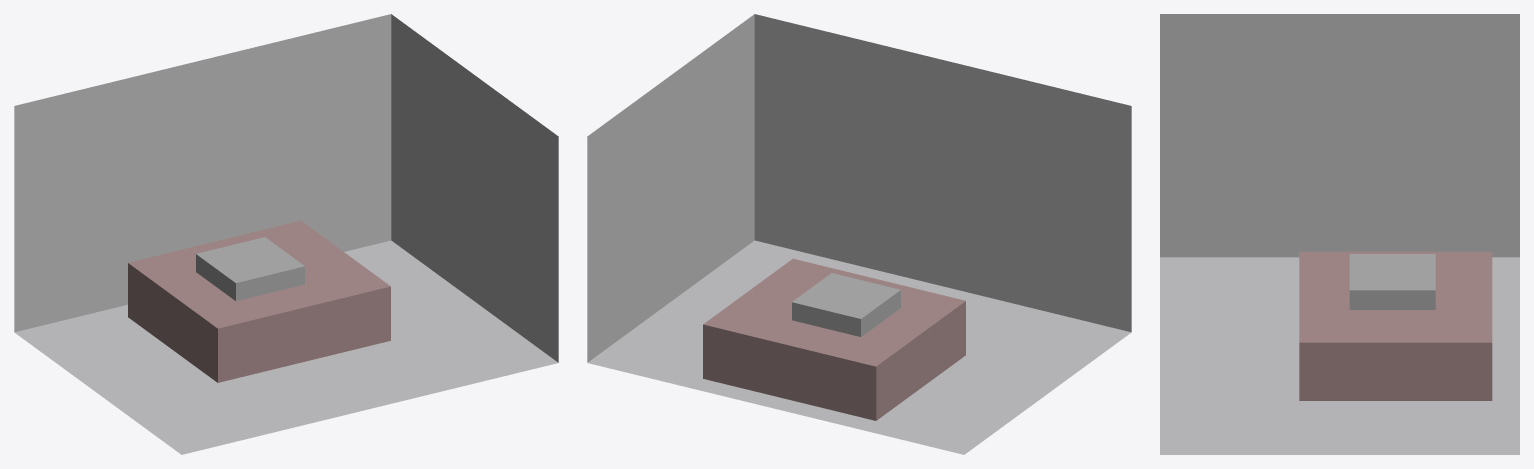
File: current_layout.glb
3 renders of one model, left to right at view 1: azimuth 30°, elevation 25°; view 2: azimuth 150°, elevation 25°; view 3: azimuth 270°, elevation 25°, orthographic. The views are drawn at different scales.
Parts seen in each view (by area): view 1: room, bed, wardrobe; view 2: room, bed, wardrobe; view 3: room, bed, wardrobe.
Part boxes in pixels (x1=…): room: x1=14, y1=14, x2=558, y2=454; bed: x1=128, y1=220, x2=390, y2=382; wardrobe: x1=196, y1=237, x2=304, y2=300; room: x1=587, y1=14, x2=1131, y2=454; bed: x1=703, y1=258, x2=965, y2=420; wardrobe: x1=792, y1=273, x2=900, y2=336; room: x1=1160, y1=14, x2=1519, y2=454; bed: x1=1299, y1=251, x2=1492, y2=400; wardrobe: x1=1349, y1=254, x2=1435, y2=309.
Size of the model in its own units: 4.36 by 2.5 by 3.35.
